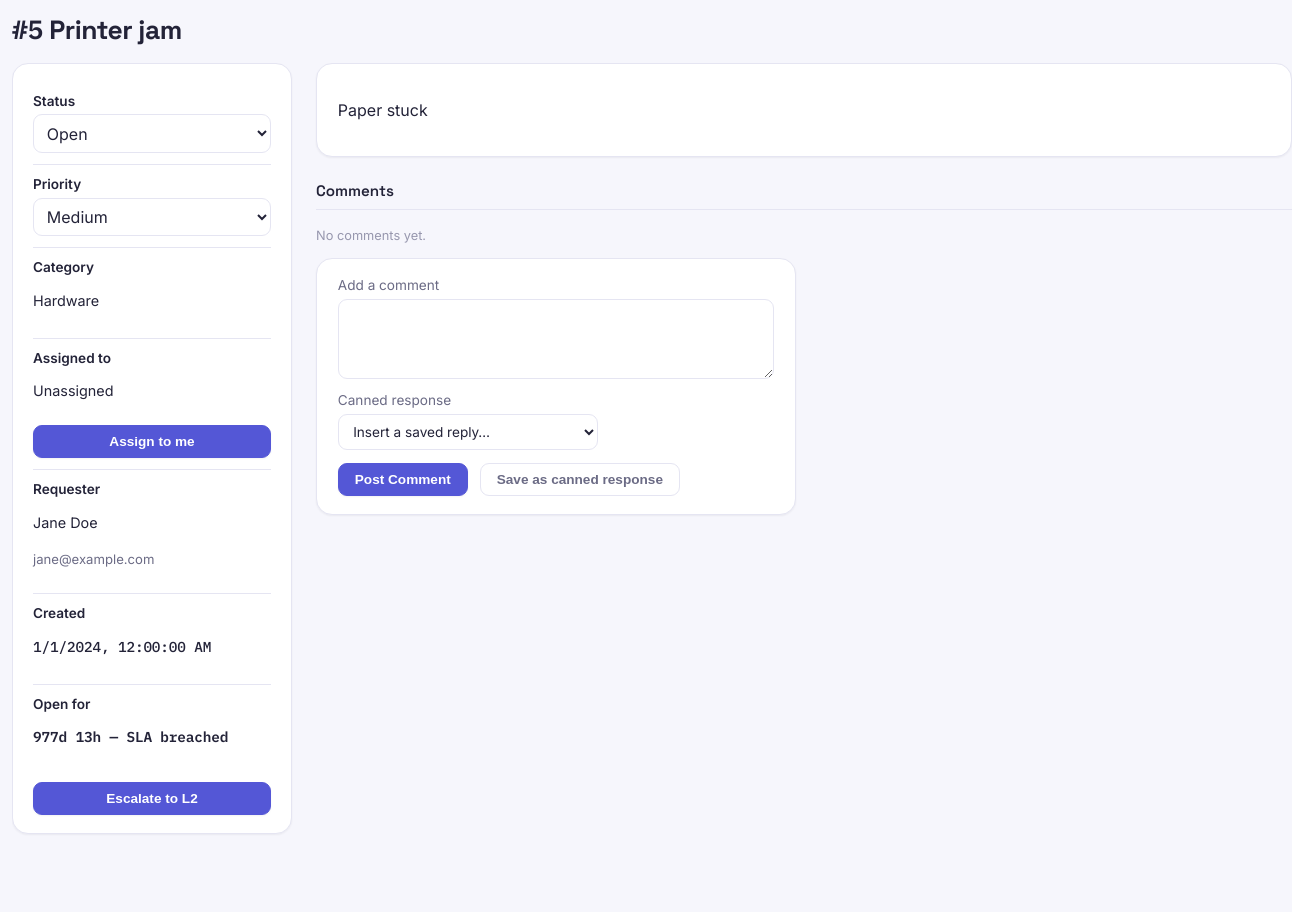
it: TicketDetailPage › fills the comment box from a picked canned response
Check: the heading "#5 Printer jam" is shown, box [12,12,182,47]
Select "Acknowledgement" in the dropdown labelled "Canned response" at (468, 432), box [338,414,598,450]
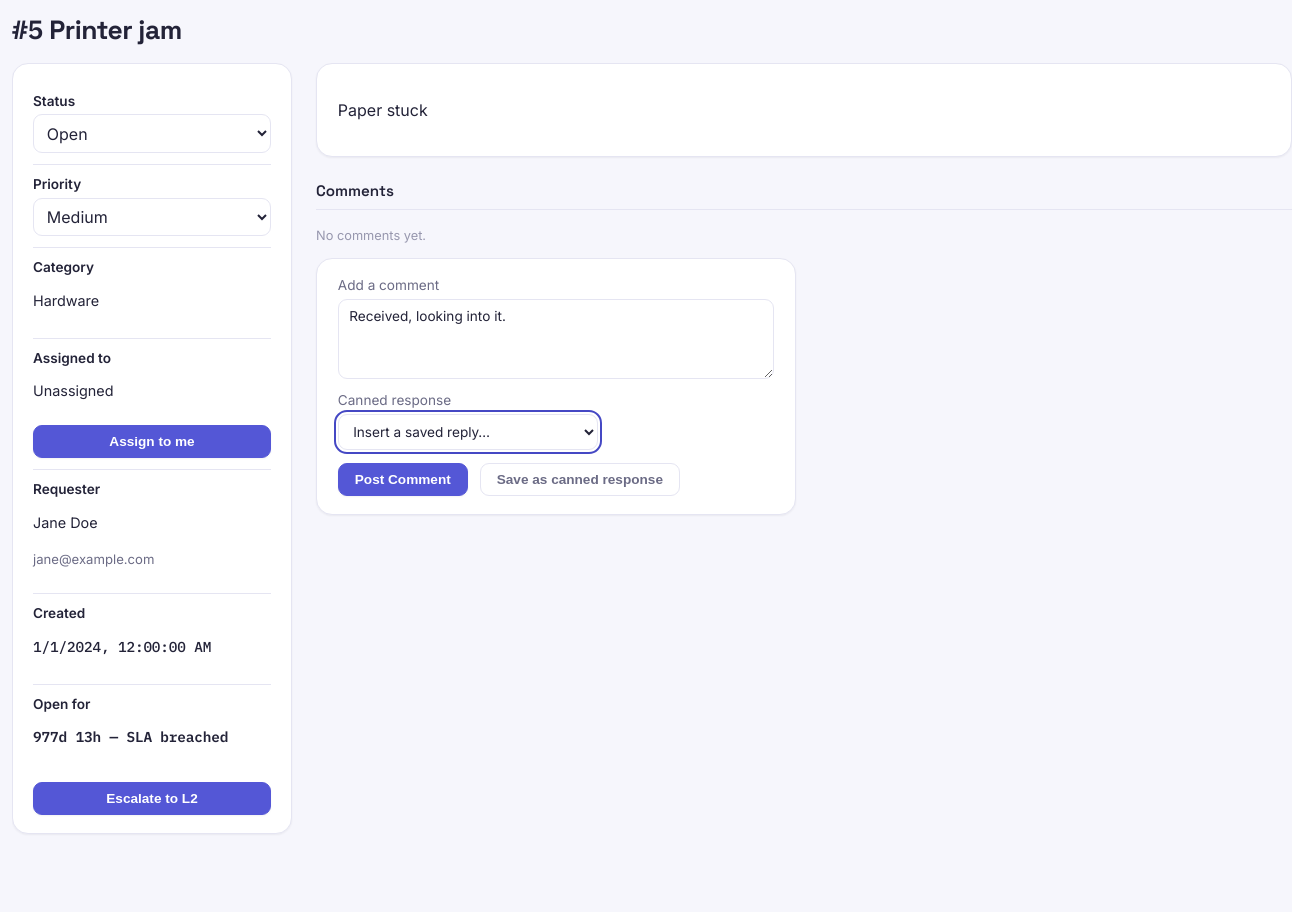
Check: the text box labelled "Add a comment" holds "Received, looking into it.", box [338,299,774,379]
